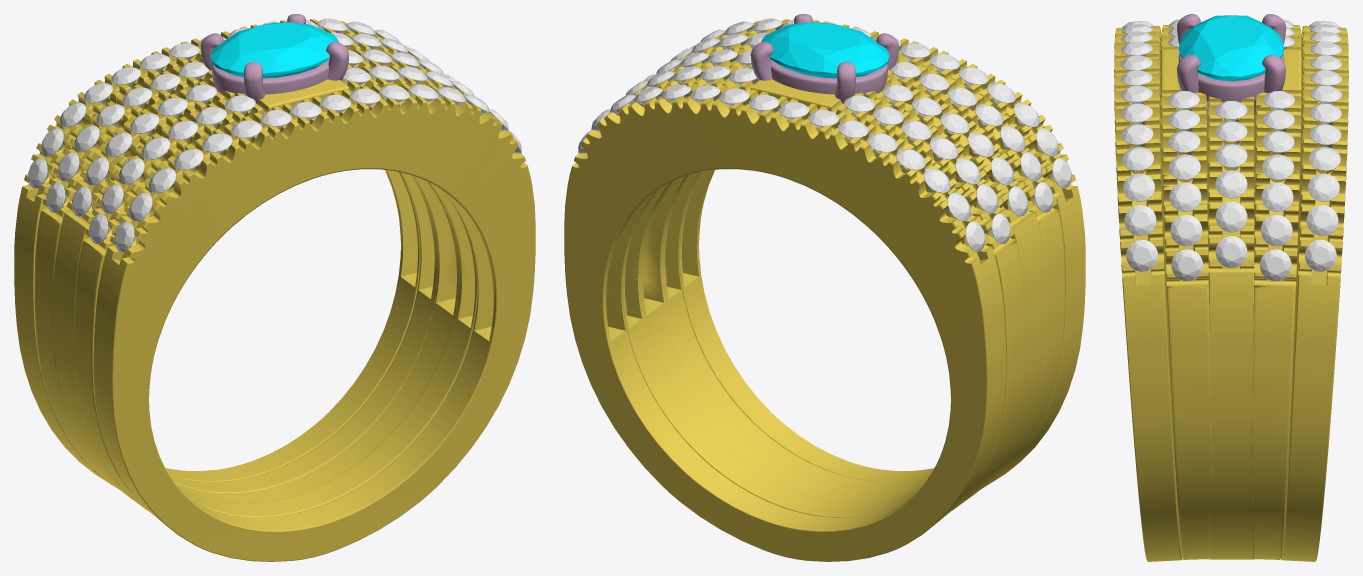
3 renders of one model, left to right at view 1: azimuth 30°, elevation 25°; view 2: azimuth 150°, elevation 25°; view 3: azimuth 270°, elevation 25°, orthographic. The views are drawn at different scales.
Visible parts, largest first — view 1: anello fascia erasmo con cutter svuotato 20.1.26.3dm; view 2: anello fascia erasmo con cutter svuotato 20.1.26.3dm; view 3: anello fascia erasmo con cutter svuotato 20.1.26.3dm.
Boxes of the visible parts, box(x1,y1,x2,y2) form: anello fascia erasmo con cutter svuotato 20.1.26.3dm: box(14, 14, 535, 561); anello fascia erasmo con cutter svuotato 20.1.26.3dm: box(564, 14, 1085, 561); anello fascia erasmo con cutter svuotato 20.1.26.3dm: box(1114, 14, 1348, 561).
Bounding box in the file's own units: 2.56 × 2.84 × 1.19.
